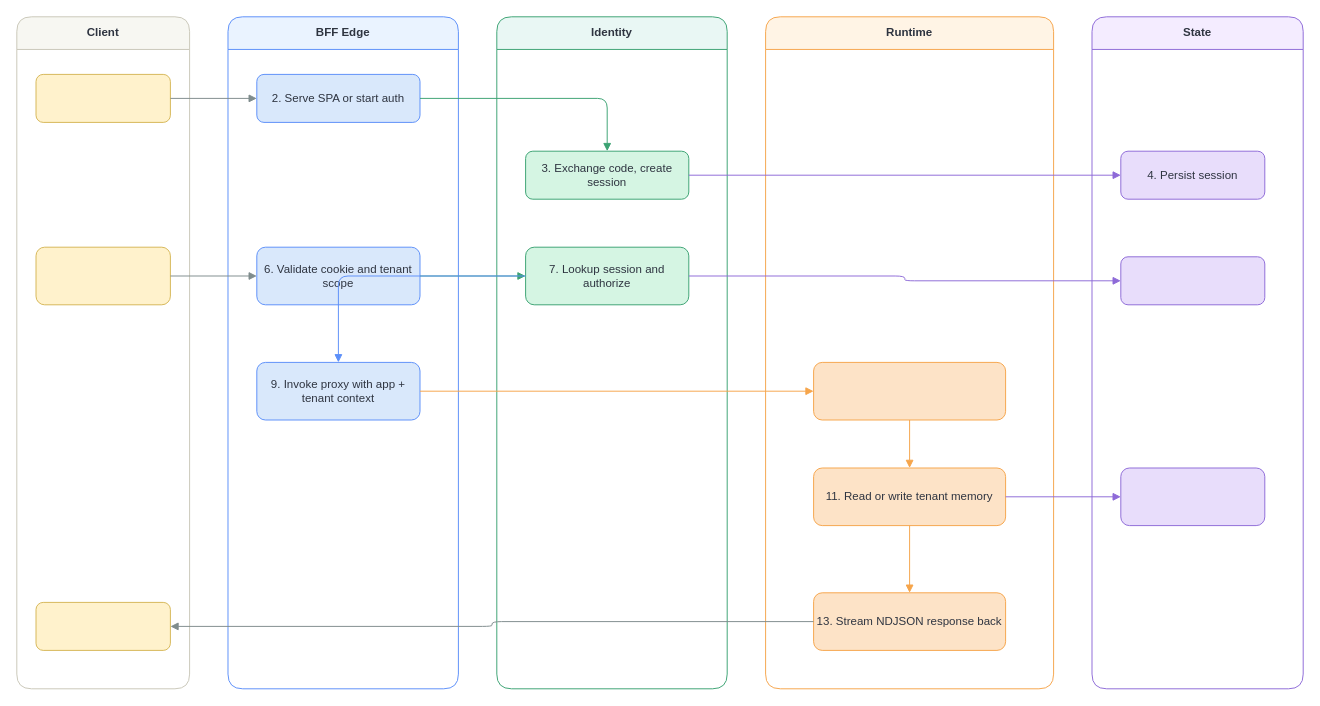
Image size: 1320x706. Some labels were removed from this diagram. The centre of each missing label's shape, as x and y in pixels:
"1. Request app shell or API" belongs at (102,97).
"10. Route gateway / runtime / tools" belongs at (909,390).
"12. Memory / artifacts / logs" belongs at (1192,496).
"14. Render response" belongs at (102,625).
"5. Send authenticated chat request" belongs at (102,275).
"8. Read session" belongs at (1192,280).
